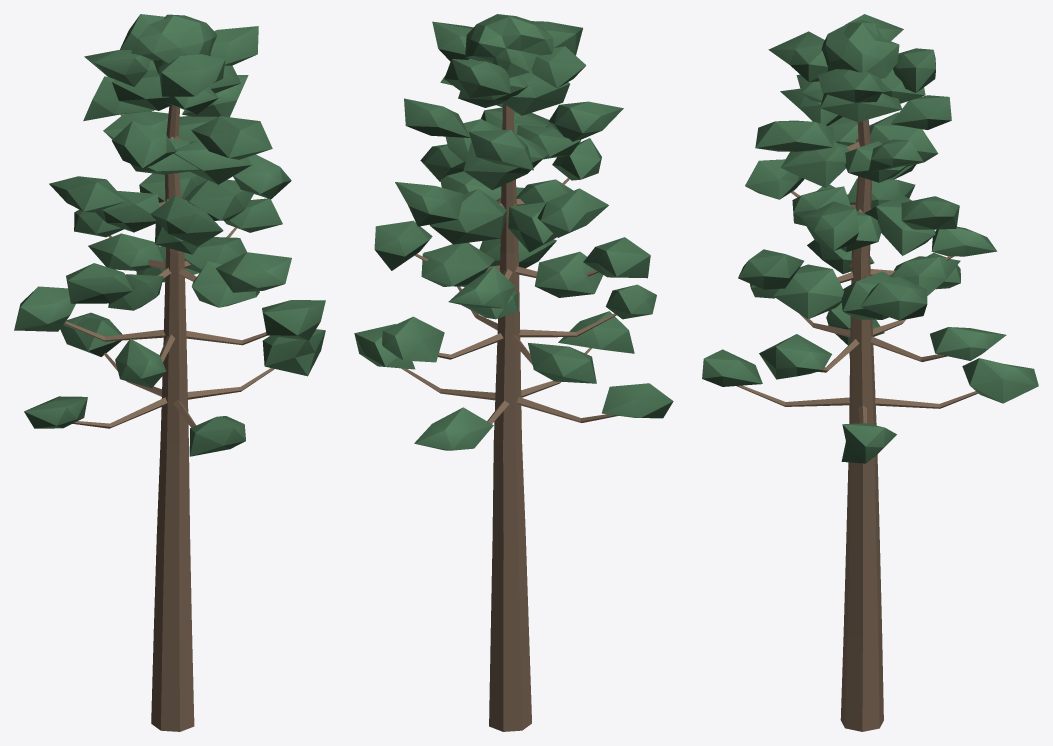
File: veg-loblolly.glb
3 views of the same model, side by side, from view 1: azimuth 30°, elevation 25°; view 2: azimuth 150°, elevation 25°; view 3: azimuth 270°, elevation 25° (orthographic).
Parts seen in each view (by area): view 1: LOD0; view 2: LOD0; view 3: LOD0.
Boxes of the visible parts, x1,y1,x2,y2 form: LOD0: (14,14,325,731); LOD0: (354,14,673,731); LOD0: (702,14,1038,731).
Size of what is drawn, in the model's own units: 5.77 by 12.55 by 5.48.
